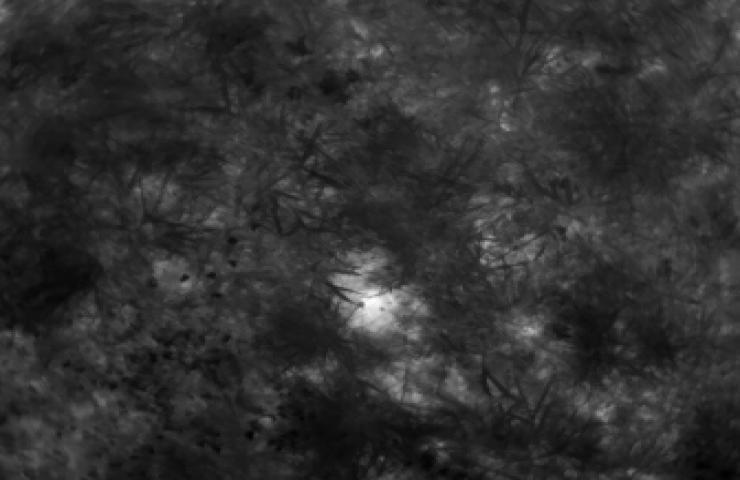landmines: (331, 252, 430, 349)
